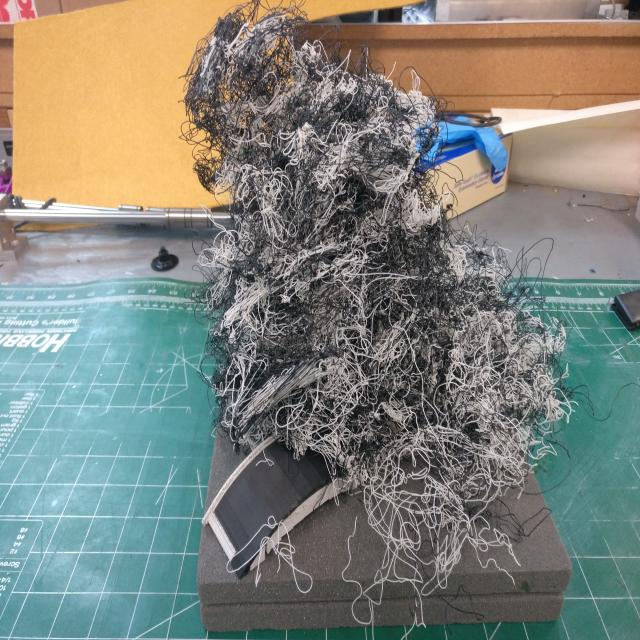spaghetti: (183, 12, 569, 615), (242, 485, 335, 602)
